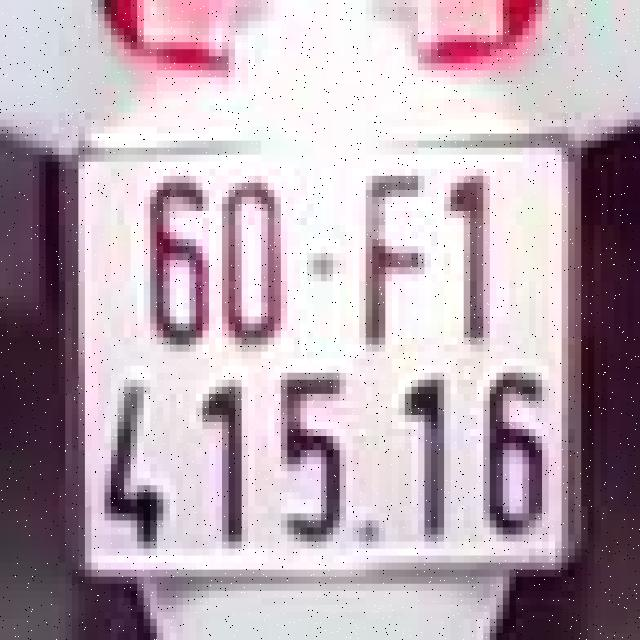0: (218, 172, 290, 355)
1: (444, 151, 509, 369), (190, 366, 262, 562), (398, 369, 464, 552)
4: (88, 366, 180, 556)
5: (264, 366, 356, 556)
6: (473, 358, 565, 562), (131, 168, 222, 352)
F: (353, 151, 431, 355)
